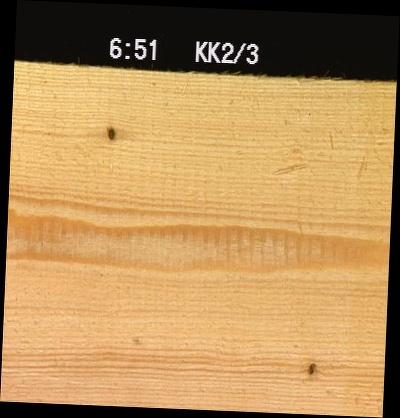dry_knot: (305, 359, 316, 375), (106, 125, 115, 142)
